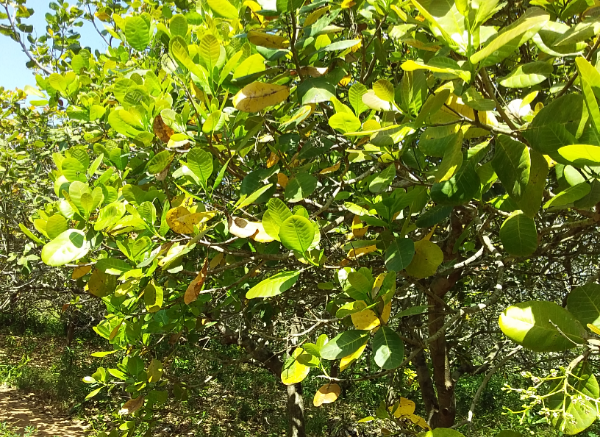Anthracnose: (229, 82, 298, 113), (162, 205, 220, 232)
